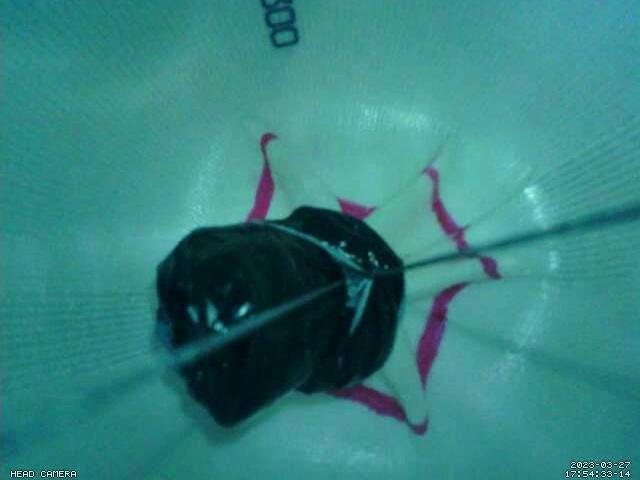red-circle: (247, 132, 503, 433)
